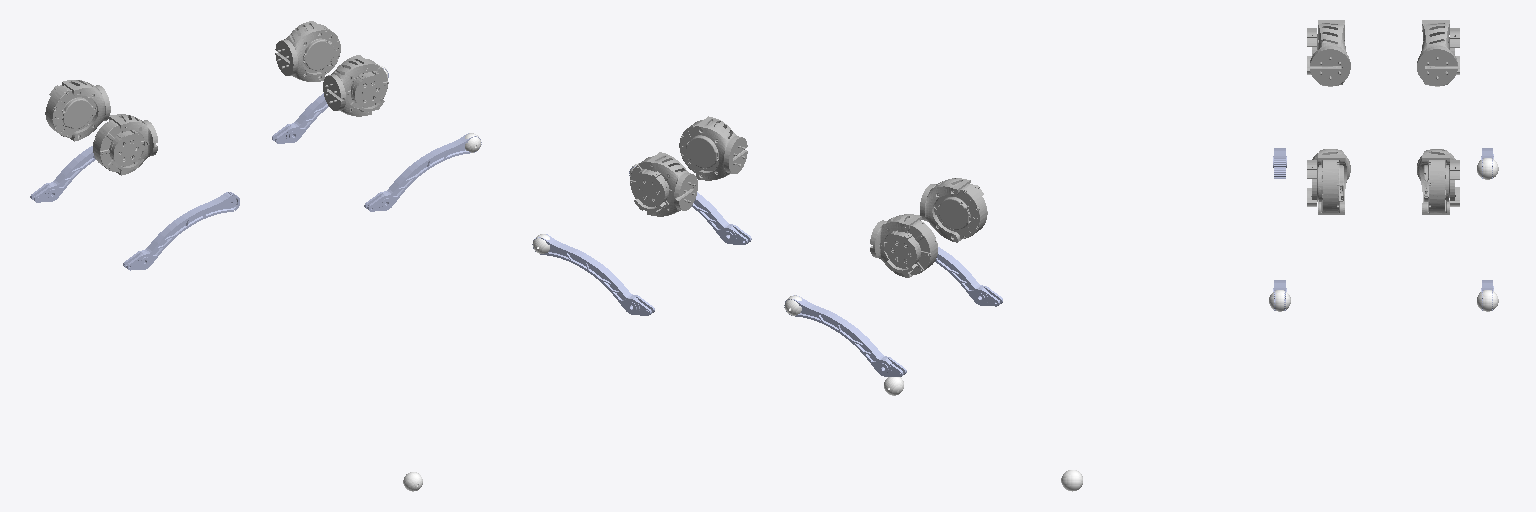
robot.urdf — GO4:
<?xml version="1.0" encoding="utf-8"?>
<!-- This URDF was automatically created by SolidWorks to URDF Exporter! Originally created by Stephen Brawner (brawner@gmail.com)
     Commit Version: 1.6.0-4-g7f85cfe  Build Version: 1.6.7995.38578
     For more information, please see http://wiki.ros.org/sw_urdf_exporter -->
<robot
  name="GO4">
    <link name="base_link">
      <visual>
        <origin xyz="0 0 0" rpy="0 0 0" />
        <geometry>
          <mesh filename="meshes/base_link.STL" />
        </geometry>
        <material>
          <color rgba="0.75294118 0.75294118 0.75294118 1.00000000"/>
        </material>
      </visual>
      <collision>
        <origin xyz="0 0 0" rpy="0 0 0" />
        <geometry>
          <mesh filename="meshes/base_link.STL" />
        </geometry>
      </collision>
      <inertial>
        <origin xyz="0.0002 0.0021 -0.0074" rpy="0 0 0" />
        <mass value="5.3723" />
        <inertia ixx="0.0328" ixy="0" ixz="0" iyy="0.0914" iyz="0" izz="0.113" />
      </inertial>
    </link>
    <link name="RL_hip">
      <visual>
        <origin xyz="0 0 0" rpy="0 0 0" />
        <geometry>
          <mesh filename="meshes/RL_hip.STL" />
        </geometry>
        <material>
          <color rgba="0.75294000 0.75294000 0.75294000 1.00000000"/>
        </material>
      </visual>
      <collision>
        <origin xyz="0 0 0" rpy="0 0 0" />
        <geometry>
          <mesh filename="meshes/RL_hip.STL" />
        </geometry>
      </collision>
      <inertial>
        <origin xyz="-0.0546 0.0017 -0.0001" rpy="0 0 0" />
        <mass value="0.6545" />
        <inertia ixx="0.0005" ixy="0" ixz="0" iyy="0.0008" iyz="0" izz="0.0005" />
      </inertial>
    </link>
    <joint name="RL_hip_joint" type="revolute">
      <parent link="base_link" />
      <child link="RL_hip" />
      <origin xyz="-0.1876 0.0850008 0.0025132" rpy="0 0 0" />
      <axis xyz="1 0 0" />
      <limit lower="-0.837758" upper="0.837758" effort="0" velocity="0" />
    </joint>
    <link name="RL_thigh">
      <visual>
        <origin xyz="0 0 0" rpy="0 0 0" />
        <geometry>
          <mesh filename="meshes/RL_thigh.STL" />
        </geometry>
        <material>
          <color rgba="0.75294000 0.75294000 0.75294000 1.00000000"/>
        </material>
      </visual>
      <collision>
        <origin xyz="0 0 0" rpy="0 0 0" />
        <geometry>
          <mesh filename="meshes/RL_thigh.STL" />
        </geometry>
      </collision>
      <inertial>
        <origin xyz="-0.0018 0.0392 -0.0169" rpy="0 0 0" />
        <mass value="0.8784" />
        <inertia ixx="0.0027" ixy="0" ixz="-0.0001" iyy="0.0029" iyz="0.0003" izz="0.0008" />
      </inertial>
    </link>
    <joint name="RL_thigh_joint" type="revolute">
      <parent link="RL_hip" />
      <child link="RL_thigh" />
      <origin xyz="-0.0599992 0.0203992 0" rpy="0 0 0" />
      <axis xyz="0 1 0" />
      <limit lower="-3.4906585" upper="1.5707963" effort="0" velocity="0" />
    </joint>
    <link name="RL_calf">
      <visual>
        <origin xyz="0 0 0" rpy="0 0 0" />
        <geometry>
          <mesh filename="meshes/RL_calf.STL" />
        </geometry>
        <material>
          <color rgba="0.79607843 0.82352941 0.93725490 1.00000000"/>
        </material>
      </visual>
      <collision>
        <origin xyz="0 0 0" rpy="0 0 0" />
        <geometry>
          <mesh filename="meshes/RL_calf.STL" />
        </geometry>
      </collision>
      <inertial>
        <origin xyz="0.0081 0 -0.0844" rpy="0 0 0" />
        <mass value="0.0649" />
        <inertia ixx="0.0004" ixy="0" ixz="0" iyy="0.0004" iyz="0" izz="0" />
      </inertial>
    </link>
    <joint name="RL_calf_joint" type="revolute">
      <parent link="RL_thigh" />
      <child link="RL_calf" />
      <origin xyz="0 0.0595 -0.1940133" rpy="0 0 0" />
      <axis xyz="0 1 0" />
      <limit lower="-2.7838002" upper="-1.1257374" effort="0" velocity="0" />
    </joint>
    <link name="RL_foot">
      <visual>
        <origin xyz="0 0 0" rpy="0 0 0" />
        <geometry>
          <mesh filename="meshes/RL_foot.STL" />
        </geometry>
        <material>
          <color rgba="1.00000000 1.00000000 1.00000000 1.00000000"/>
        </material>
      </visual>
      <collision>
        <origin xyz="0 0 0" rpy="0 0 0" />
        <geometry>
          <mesh filename="meshes/RL_foot.STL" />
        </geometry>
      </collision>
    </link>
    <joint name="RL_foot_joint" type="fixed">
      <parent link="RL_calf" />
      <child link="RL_foot" />
      <origin xyz="0 0 -0.194" rpy="0 0 0" />
    </joint>
    <link name="FL_hip">
      <visual>
        <origin xyz="0 0 0" rpy="0 0 0" />
        <geometry>
          <mesh filename="meshes/FL_hip.STL" />
        </geometry>
        <material>
          <color rgba="0.75294118 0.75294118 0.75294118 1.00000000"/>
        </material>
      </visual>
      <collision>
        <origin xyz="0 0 0" rpy="0 0 0" />
        <geometry>
          <mesh filename="meshes/FL_hip.STL" />
        </geometry>
      </collision>
      <inertial>
        <origin xyz="0.0546 0.0017 0.0001" rpy="0 0 0" />
        <mass value="0.6545" />
        <inertia ixx="0.0005" ixy="0" ixz="0" iyy="0.0008" iyz="0" izz="0.0005" />
      </inertial>
    </link>
    <joint name="FL_hip_joint" type="revolute">
      <parent link="base_link" />
      <child link="FL_hip" />
      <origin xyz="0.1881 0.0849992 0.0025132" rpy="0 0 0" />
      <axis xyz="1 0 0" />
      <limit lower="-0.837758" upper="0.837758" effort="0" velocity="0" />
    </joint>
    <link name="FL_thigh">
      <visual>
        <origin xyz="0 0 0" rpy="0 0 0" />
        <geometry>
          <mesh filename="meshes/FL_thigh.STL" />
        </geometry>
        <material>
          <color rgba="0.75294000 0.75294000 0.75294000 1.00000000"/>
        </material>
      </visual>
      <collision>
        <origin xyz="0 0 0" rpy="0 0 0" />
        <geometry>
          <mesh filename="meshes/FL_thigh.STL" />
        </geometry>
      </collision>
      <inertial>
        <origin xyz="-0.0018 0.0392 -0.0168" rpy="0 0 0" />
        <mass value="0.8784" />
        <inertia ixx="0.0027" ixy="0" ixz="-0.0001" iyy="0.0029" iyz="0.0003" izz="0.0008" />
      </inertial>
    </link>
    <joint name="FL_thigh_joint" type="revolute">
      <parent link="FL_hip" />
      <child link="FL_thigh" />
      <origin xyz="0.0599992 0.0204008 -0.0000265" rpy="0 0 0" />
      <axis xyz="0 1 0" />
      <limit lower="-3.4906585" upper="1.5707963" effort="0" velocity="0" />
    </joint>
    <link name="FL_calf">
      <visual>
        <origin xyz="0 0 0" rpy="0 0 0" />
        <geometry>
          <mesh filename="meshes/FL_calf.STL" />
        </geometry>
        <material>
          <color rgba="0.79607843 0.82352941 0.93725490 1.00000000"/>
        </material>
      </visual>
      <collision>
        <origin xyz="0 0 0" rpy="0 0 0" />
        <geometry>
          <mesh filename="meshes/FL_calf.STL" />
        </geometry>
      </collision>
      <inertial>
        <origin xyz="0.0081 0 -0.0844" rpy="0 0 0" />
        <mass value="0.0649" />
        <inertia ixx="0.0004" ixy="0" ixz="0" iyy="0.0004" iyz="0" izz="0" />
      </inertial>
    </link>
    <joint name="FL_calf_joint" type="revolute">
      <parent link="FL_thigh" />
      <child link="FL_calf" />
      <origin xyz="0 0.0595 -0.1939867" rpy="0 0 0" />
      <axis xyz="0 1 0" />
      <limit lower="-2.7838002" upper="-1.1257374" effort="0" velocity="0" />
    </joint>
    <link name="FL_foot">
      <visual>
        <origin xyz="0 0 0" rpy="0 0 0" />
        <geometry>
          <mesh filename="meshes/FL_foot.STL" />
        </geometry>
        <material>
          <color rgba="1.00000000 1.00000000 1.00000000 1.00000000"/>
        </material>
      </visual>
      <collision>
        <origin xyz="0 0 0" rpy="0 0 0" />
        <geometry>
          <mesh filename="meshes/FL_foot.STL" />
        </geometry>
      </collision>
    </link>
    <joint name="FL_foot_joint" type="fixed">
      <parent link="FL_calf" />
      <child link="FL_foot" />
      <origin xyz="0 0 -0.194" rpy="0 0 0" />
    </joint>
    <link name="RR_hip">
      <visual>
        <origin xyz="0 0 0" rpy="0 0 0" />
        <geometry>
          <mesh filename="meshes/RR_hip.STL" />
        </geometry>
        <material>
          <color rgba="0.75294000 0.75294000 0.75294000 1.00000000"/>
        </material>
      </visual>
      <collision>
        <origin xyz="0 0 0" rpy="0 0 0" />
        <geometry>
          <mesh filename="meshes/RR_hip.STL" />
        </geometry>
      </collision>
      <inertial>
        <origin xyz="-0.0546 -0.0017 0.0001" rpy="0 0 0" />
        <mass value="0.6545" />
        <inertia ixx="0.0005" ixy="0" ixz="0" iyy="0.0008" iyz="0" izz="0.0005" />
      </inertial>
    </link>
    <joint name="RR_hip_joint" type="revolute">
      <parent link="base_link" />
      <child link="RR_hip" />
      <origin xyz="-0.1876 -0.0849992 0.0025132" rpy="0 0 0" />
      <axis xyz="1 0 0" />
      <limit lower="-0.837758" upper="0.837758" effort="0" velocity="0" />
    </joint>
    <link name="RR_thigh">
      <visual>
        <origin xyz="0 0 0" rpy="0 0 0" />
        <geometry>
          <mesh filename="meshes/RR_thigh.STL" />
        </geometry>
        <material>
          <color rgba="0.75294118 0.75294118 0.75294118 1.00000000"/>
        </material>
      </visual>
      <collision>
        <origin xyz="0 0 0" rpy="0 0 0" />
        <geometry>
          <mesh filename="meshes/RR_thigh.STL" />
        </geometry>
      </collision>
      <inertial>
        <origin xyz="-0.0017 -0.039 -0.0156" rpy="0 0 0" />
        <mass value="0.873" />
        <inertia ixx="0.0025" ixy="0" ixz="-0.0001" iyy="0.0027" iyz="-0.0003" izz="0.0008" />
      </inertial>
    </link>
    <joint name="RR_thigh_joint" type="revolute">
      <parent link="RR_hip" />
      <child link="RR_thigh" />
      <origin xyz="-0.0599992 -0.0204008 -0.0000265" rpy="0 0 0" />
      <axis xyz="0 1 0" />
      <limit lower="-3.4906585" upper="1.5707963" effort="0" velocity="0" />
    </joint>
    <link name="RR_calf">
      <visual>
        <origin xyz="0 0 0" rpy="0 0 0" />
        <geometry>
          <mesh filename="meshes/RR_calf.STL" />
        </geometry>
        <material>
          <color rgba="0.79608000 0.82353000 0.93725000 1.00000000"/>
        </material>
      </visual>
      <collision>
        <origin xyz="0 0 0" rpy="0 0 0" />
        <geometry>
          <mesh filename="meshes/RR_calf.STL" />
        </geometry>
      </collision>
      <inertial>
        <origin xyz="0.0081 0 -0.0895" rpy="0 0 0" />
        <mass value="0.0621" />
        <inertia ixx="0.0003" ixy="0" ixz="0" iyy="0.0003" iyz="0" izz="0" />
      </inertial>
    </link>
    <joint name="RR_calf_joint" type="revolute">
      <parent link="RR_thigh" />
      <child link="RR_calf" />
      <origin xyz="0 -0.0595 -0.1939867" rpy="0 0 0" />
      <axis xyz="0 1 0" />
      <limit lower="-2.7838002" upper="-1.1257374" effort="0" velocity="0" />
    </joint>
    <link name="RR_foot">
      <visual>
        <origin xyz="0 0 0" rpy="0 0 0" />
        <geometry>
          <mesh filename="meshes/RR_foot.STL" />
        </geometry>
        <material>
          <color rgba="1.00000000 1.00000000 1.00000000 1.00000000"/>
        </material>
      </visual>
      <collision>
        <origin xyz="0 0 0" rpy="0 0 0" />
        <geometry>
          <mesh filename="meshes/RR_foot.STL" />
        </geometry>
      </collision>
    </link>
    <joint name="RR_foot_joint" type="fixed">
      <parent link="RR_calf" />
      <child link="RR_foot" />
      <origin xyz="0 0 -0.194" rpy="0 0 0" />
    </joint>
    <link name="FR_hip">
      <visual>
        <origin xyz="0 0 0" rpy="0 0 0" />
        <geometry>
          <mesh filename="meshes/FR_hip.STL" />
        </geometry>
        <material>
          <color rgba="0.75294118 0.75294118 0.75294118 1.00000000"/>
        </material>
      </visual>
      <collision>
        <origin xyz="0 0 0" rpy="0 0 0" />
        <geometry>
          <mesh filename="meshes/FR_hip.STL" />
        </geometry>
      </collision>
      <inertial>
        <origin xyz="0.0546 -0.0017 -0.0001" rpy="0 0 0" />
        <mass value="0.6545" />
        <inertia ixx="0.0005" ixy="0" ixz="0" iyy="0.0008" iyz="0" izz="0.0005" />
      </inertial>
    </link>
    <joint name="FR_hip_joint" type="revolute">
      <parent link="base_link" />
      <child link="FR_hip" />
      <origin xyz="0.1881 -0.0850008 0.0025132" rpy="0 0 0" />
      <axis xyz="1 0 0" />
      <limit lower="-0.837758" upper="0.837758" effort="0" velocity="0" />
    </joint>
    <link name="FR_thigh">
      <visual>
        <origin xyz="0 0 0" rpy="0 0 0" />
        <geometry>
          <mesh filename="meshes/FR_thigh.STL" />
        </geometry>
        <material>
          <color rgba="0.75294118 0.75294118 0.75294118 1.00000000"/>
        </material>
      </visual>
      <collision>
        <origin xyz="0 0 0" rpy="0 0 0" />
        <geometry>
          <mesh filename="meshes/FR_thigh.STL" />
        </geometry>
      </collision>
      <inertial>
        <origin xyz="-0.0017 -0.039 -0.0156" rpy="0 0 0" />
        <mass value="0.873" />
        <inertia ixx="0.0025" ixy="0" ixz="-0.0001" iyy="0.0027" iyz="-0.0003" izz="0.0008" />
      </inertial>
    </link>
    <joint name="FR_thigh_joint" type="revolute">
      <parent link="FR_hip" />
      <child link="FR_thigh" />
      <origin xyz="0.0599992 -0.0203992 0" rpy="0 0 0" />
      <axis xyz="0 1 0" />
      <limit lower="-3.4906585" upper="1.5707963" effort="0" velocity="0" />
    </joint>
    <link name="FR_calf">
      <visual>
        <origin xyz="0 0 0" rpy="0 0 0" />
        <geometry>
          <mesh filename="meshes/FR_calf.STL" />
        </geometry>
        <material>
          <color rgba="0.79608000 0.82353000 0.93725000 1.00000000"/>
        </material>
      </visual>
      <collision>
        <origin xyz="0 0 0" rpy="0 0 0" />
        <geometry>
          <mesh filename="meshes/FR_calf.STL" />
        </geometry>
      </collision>
      <inertial>
        <origin xyz="0.0081 0 -0.0895" rpy="0 0 0" />
        <mass value="0.0621" />
        <inertia ixx="0.0003" ixy="0" ixz="0" iyy="0.0003" iyz="0" izz="0" />
      </inertial>
    </link>
    <joint name="FR_calf_joint" type="revolute">
      <parent link="FR_thigh" />
      <child link="FR_calf" />
      <origin xyz="0 -0.0595 -0.1940133" rpy="0 0 0" />
      <axis xyz="0 1 0" />
      <limit lower="-2.7838002" upper="-1.1257374" effort="0" velocity="0" />
    </joint>
    <link name="FR_foot">
      <visual>
        <origin xyz="0 0 0" rpy="0 0 0" />
        <geometry>
          <mesh filename="meshes/FR_foot.STL" />
        </geometry>
        <material>
          <color rgba="1.00000000 1.00000000 1.00000000 1.00000000"/>
        </material>
      </visual>
      <collision>
        <origin xyz="0 0 0" rpy="0 0 0" />
        <geometry>
          <mesh filename="meshes/FR_foot.STL" />
        </geometry>
      </collision>
    </link>
    <joint name="FR_foot_joint" type="fixed">
      <parent link="FR_calf" />
      <child link="FR_foot" />
      <origin xyz="0 0 -0.194" rpy="0 0 0" />
    </joint>
</robot>

--- What the picture shows (computed from the rendered views, not written in the file) ---
3 views of the same robot in one strip: view 1: azimuth 30°, elevation 25°; view 2: azimuth 150°, elevation 25°; view 3: azimuth 270°, elevation 25° (orthographic).
Model GO4 with 17 links and 16 joints (12 revolute, 4 fixed), rooted at base_link, posed joints at zero except 4 at the middle of their limits (RL_calf_joint = -1.95, FL_calf_joint = -1.95, RR_calf_joint = -1.95, FR_calf_joint = -1.95).
Links seen in each view (by area): view 1: FR_hip, RL_hip, FL_hip, RR_hip, RR_calf, FR_calf, RL_calf, FL_calf; view 2: FL_hip, RR_hip, FR_hip, RL_hip, FL_calf, RL_calf, RR_calf, FR_calf; view 3: RR_hip, FR_hip, RL_hip, FL_hip.
Boxes of the visible links, x1=… form: FR_hip: x1=323, y1=55, x2=388, y2=116; RL_hip: x1=45, y1=80, x2=110, y2=141; FL_hip: x1=275, y1=21, x2=340, y2=81; RR_hip: x1=93, y1=114, x2=157, y2=175; RR_calf: x1=123, y1=192, x2=239, y2=270; FR_calf: x1=364, y1=133, x2=481, y2=211; RL_calf: x1=30, y1=146, x2=95, y2=202; FL_calf: x1=272, y1=68, x2=388, y2=143; FL_hip: x1=630, y1=152, x2=697, y2=216; RR_hip: x1=920, y1=178, x2=987, y2=242; FR_hip: x1=679, y1=116, x2=747, y2=180; RL_hip: x1=870, y1=214, x2=937, y2=277; FL_calf: x1=532, y1=234, x2=654, y2=315; RL_calf: x1=784, y1=295, x2=906, y2=376; RR_calf: x1=935, y1=247, x2=1002, y2=306; FR_calf: x1=629, y1=166, x2=751, y2=244; RR_hip: x1=1307, y1=20, x2=1350, y2=86; FR_hip: x1=1307, y1=149, x2=1350, y2=214; RL_hip: x1=1417, y1=20, x2=1459, y2=86; FL_hip: x1=1417, y1=149, x2=1459, y2=214.
Bounding box of the posed robot: 0.7413 × 0.6942 × 0.6503 m (x, y, z).
Meshes: 17 distinct files referenced, 12 mesh visuals loaded (12 binary STL); not drawn: 5 (reference not matched to a file when rendering).
